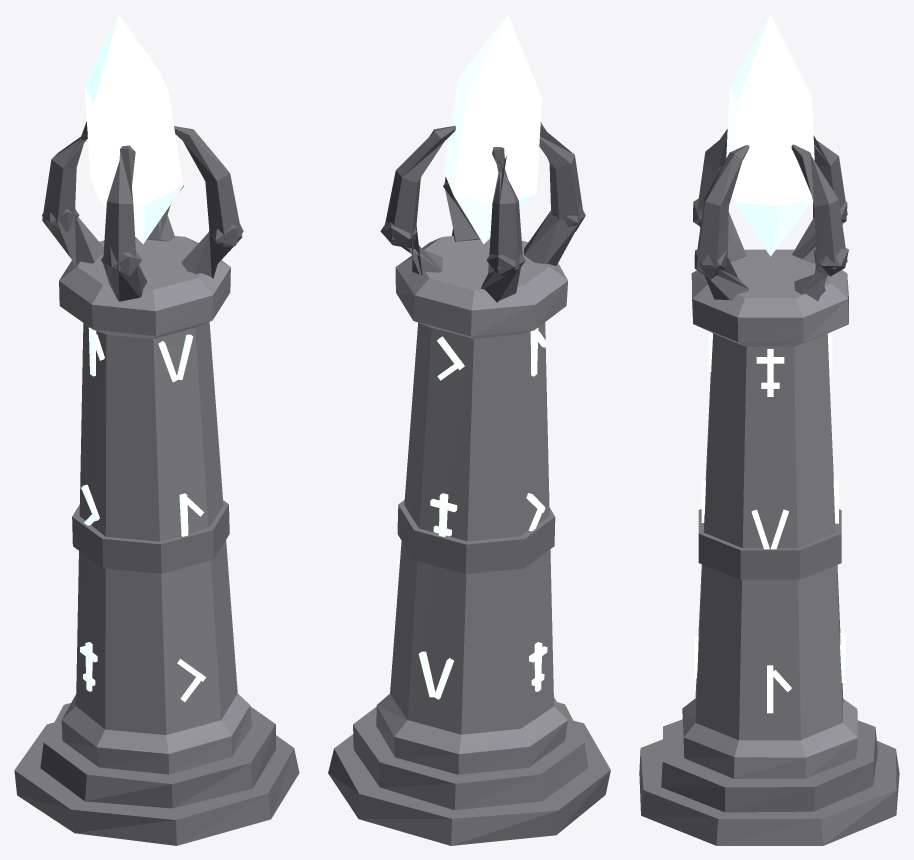
The model's file is Altar_Pillar_B.glb.
3 views of the same model, side by side, from view 1: azimuth 30°, elevation 25°; view 2: azimuth 150°, elevation 25°; view 3: azimuth 270°, elevation 25° (orthographic). The views are drawn at different scales.
Parts seen in each view (by area): view 1: Stone, StoneDark, Crystal, Claws, Runes; view 2: Stone, StoneDark, Crystal, Claws, Runes; view 3: Stone, StoneDark, Crystal, Claws, Runes.
Part boxes in pixels (x1,y1,x2,y2): Stone: (59, 236, 252, 774); StoneDark: (14, 500, 299, 845); Crystal: (84, 14, 182, 244); Claws: (42, 121, 243, 301); Runes: (80, 327, 205, 701); Stone: (376, 236, 567, 774); StoneDark: (328, 500, 610, 845); Crystal: (443, 14, 541, 243); Claws: (380, 122, 585, 302); Runes: (418, 328, 547, 699); Stone: (682, 249, 857, 778); StoneDark: (639, 509, 899, 845); Crystal: (726, 14, 814, 256); Claws: (693, 129, 848, 301); Runes: (694, 331, 845, 713).
Size of the model in its own units: 5.68 by 18.44 by 5.68.
